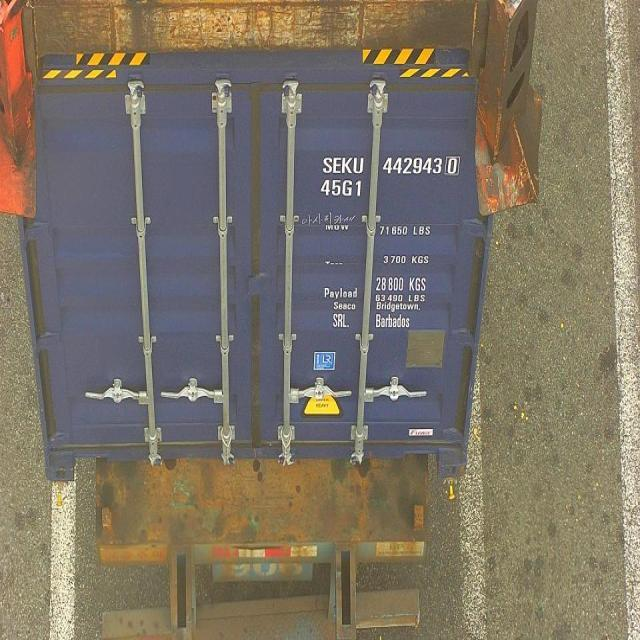ISO: (320, 174, 365, 208)
container_number: (326, 155, 461, 176)
